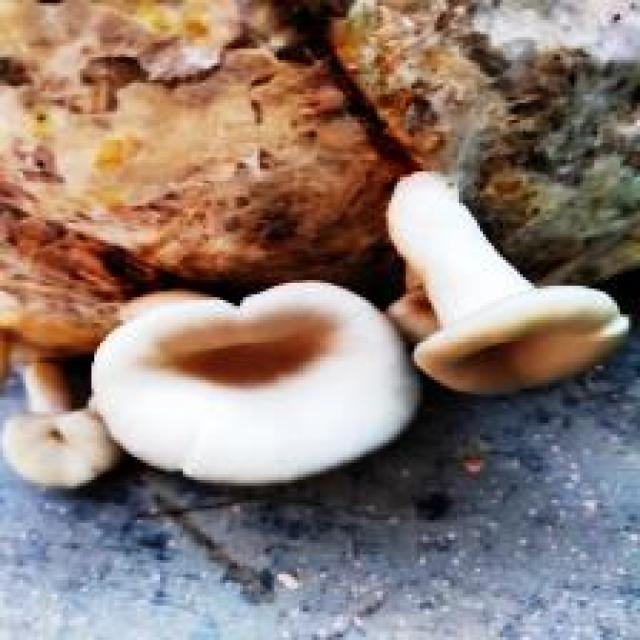field-mushroom: (88, 277, 423, 486), (386, 166, 634, 394)
